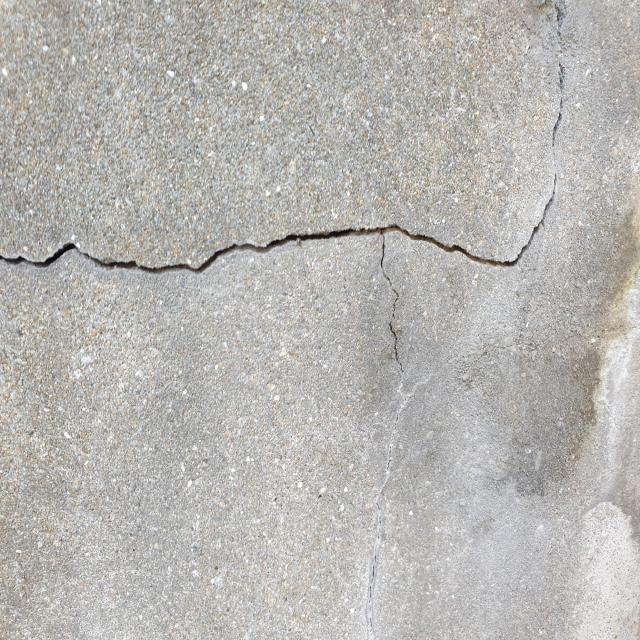SurfaceCrack: (4, 195, 640, 297)
